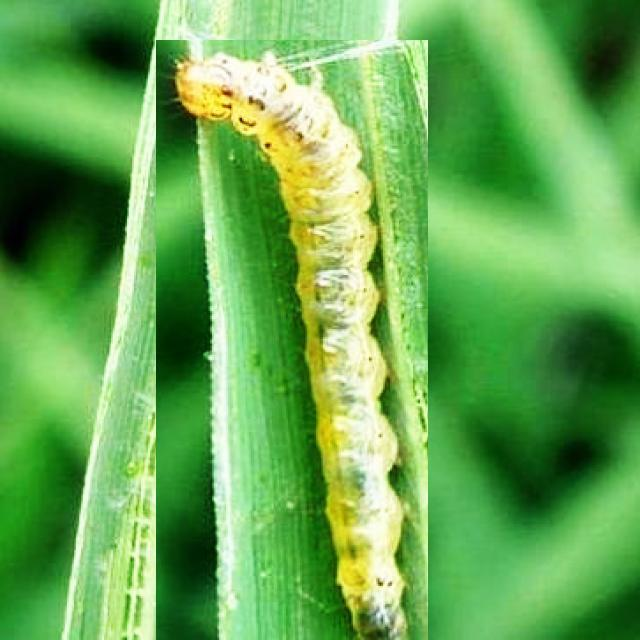leaf-folder: (156, 40, 428, 640)
